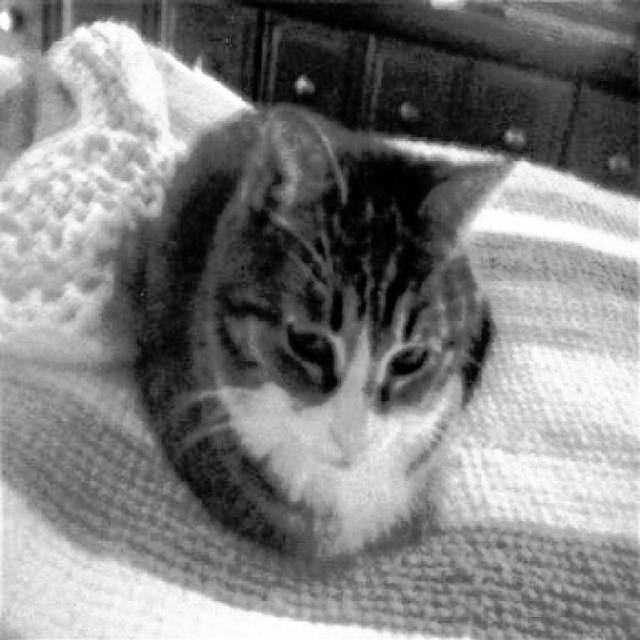Cat: (125, 91, 527, 568)
